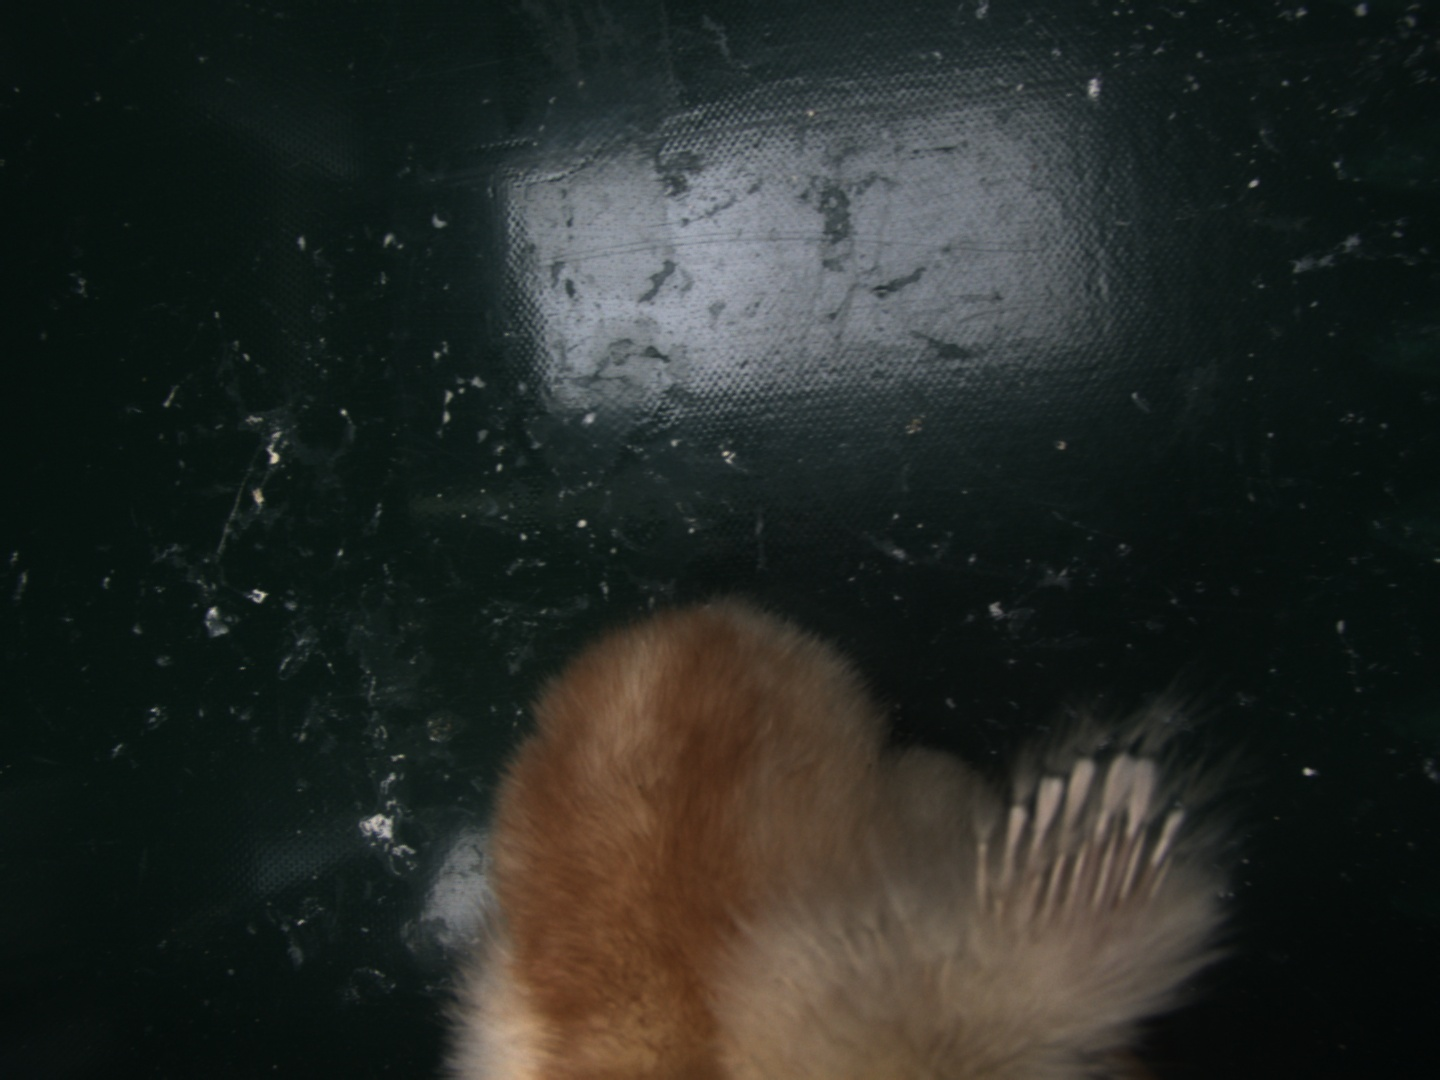female: (969, 745, 1191, 922)
